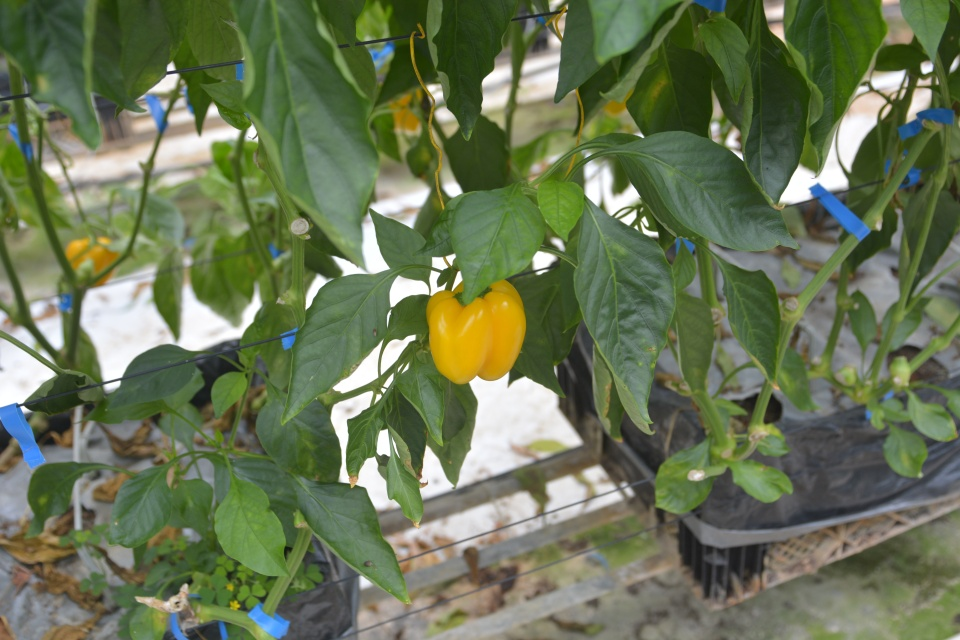fruit: (422, 277, 528, 386), (62, 232, 122, 287)
pedicle: (452, 284, 492, 305)
